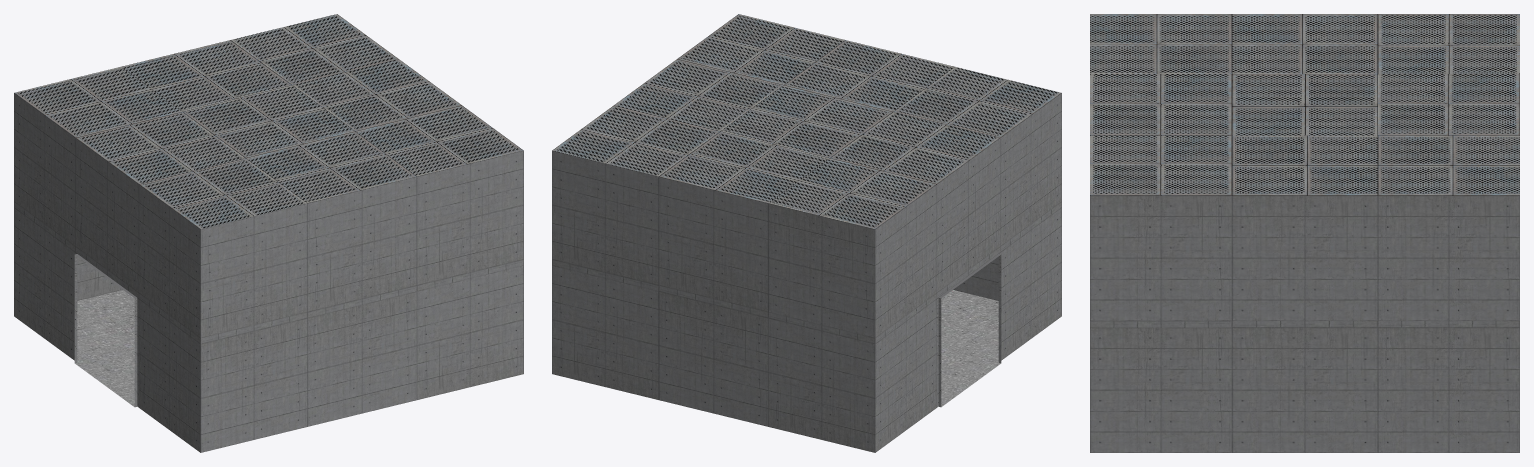
File: Warehouse.fbx
3 renders of one model, left to right at view 1: azimuth 30°, elevation 25°; view 2: azimuth 150°, elevation 25°; view 3: azimuth 270°, elevation 25°, orthographic. The views are drawn at different scales.
Visible parts, largest first — view 1: Room; view 2: Room; view 3: Room.
Part boxes in pixels (bbox=[...]): Room: bbox=[14, 14, 523, 452]; Room: bbox=[552, 14, 1061, 452]; Room: bbox=[1090, 14, 1519, 452].
Bounding box in the file's own units: 595 × 390 × 590.
